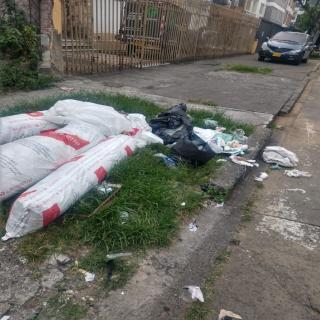Garbage: (170, 131, 220, 169), (148, 102, 198, 140)
